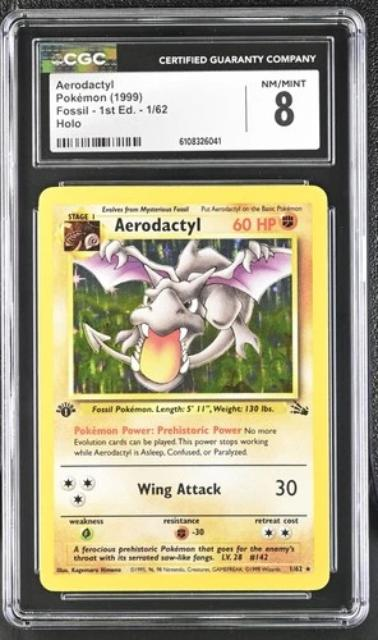Card: (35, 182, 332, 594)
Name: (108, 212, 202, 236)
